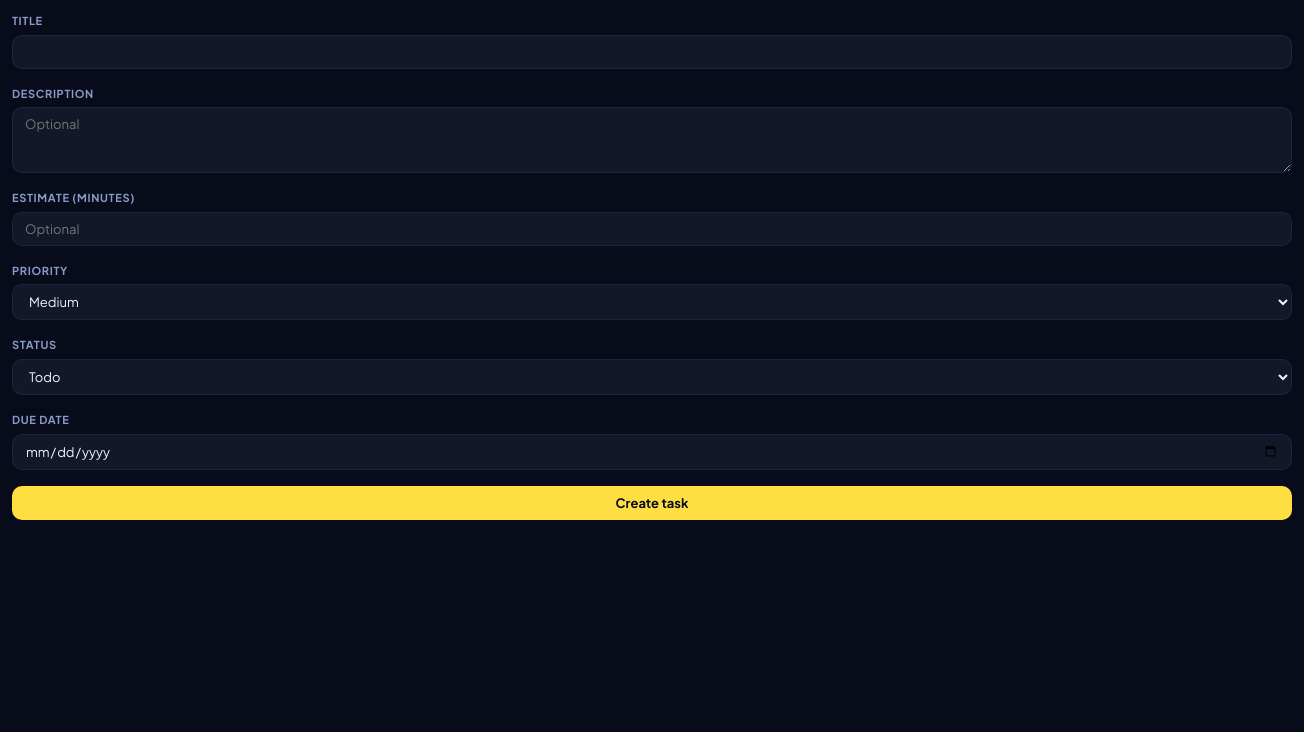
Test: TaskForm › shows validation error when estimate is negative
Type "Test" into the field labelled "Title".
click(652, 52); type("Test")  # box top-left (12, 35), bottom-right (1292, 69)
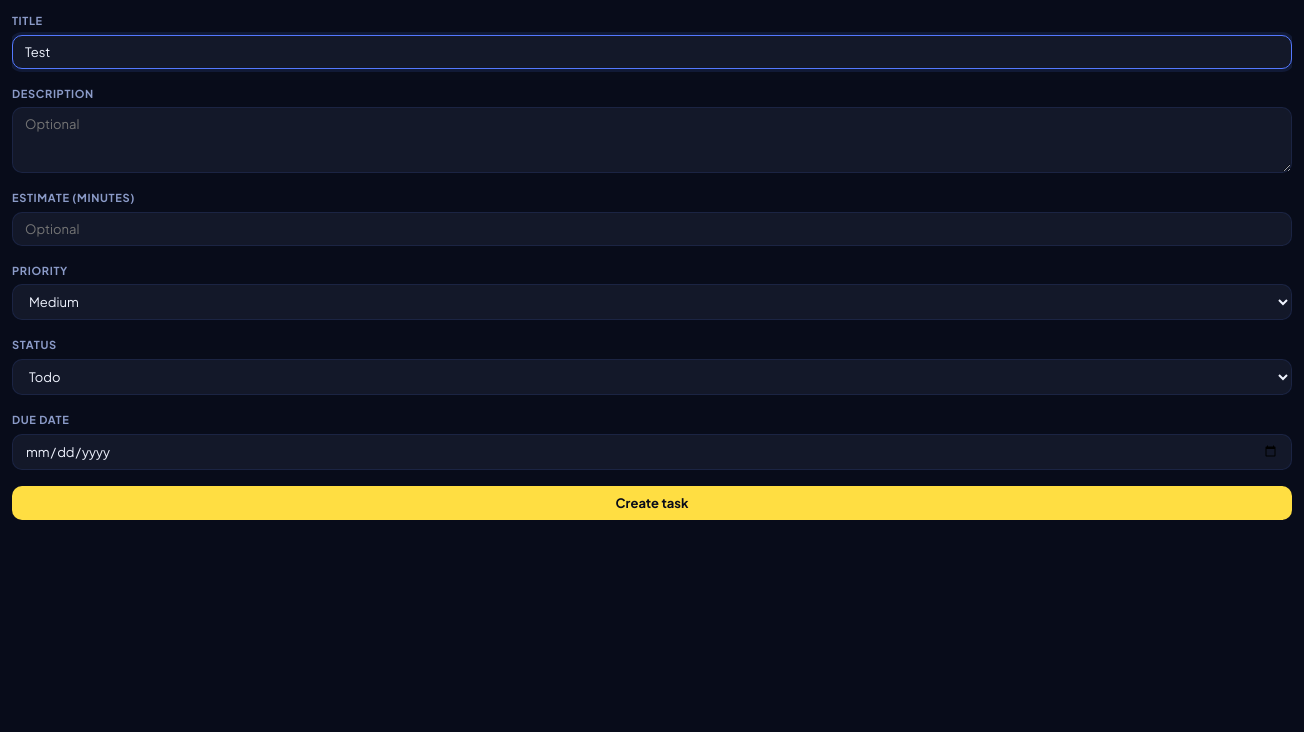
Type "-5" into the number field labelled "Estimate (minutes)".
click(652, 229); type("-5")  # box top-left (12, 212), bottom-right (1292, 246)
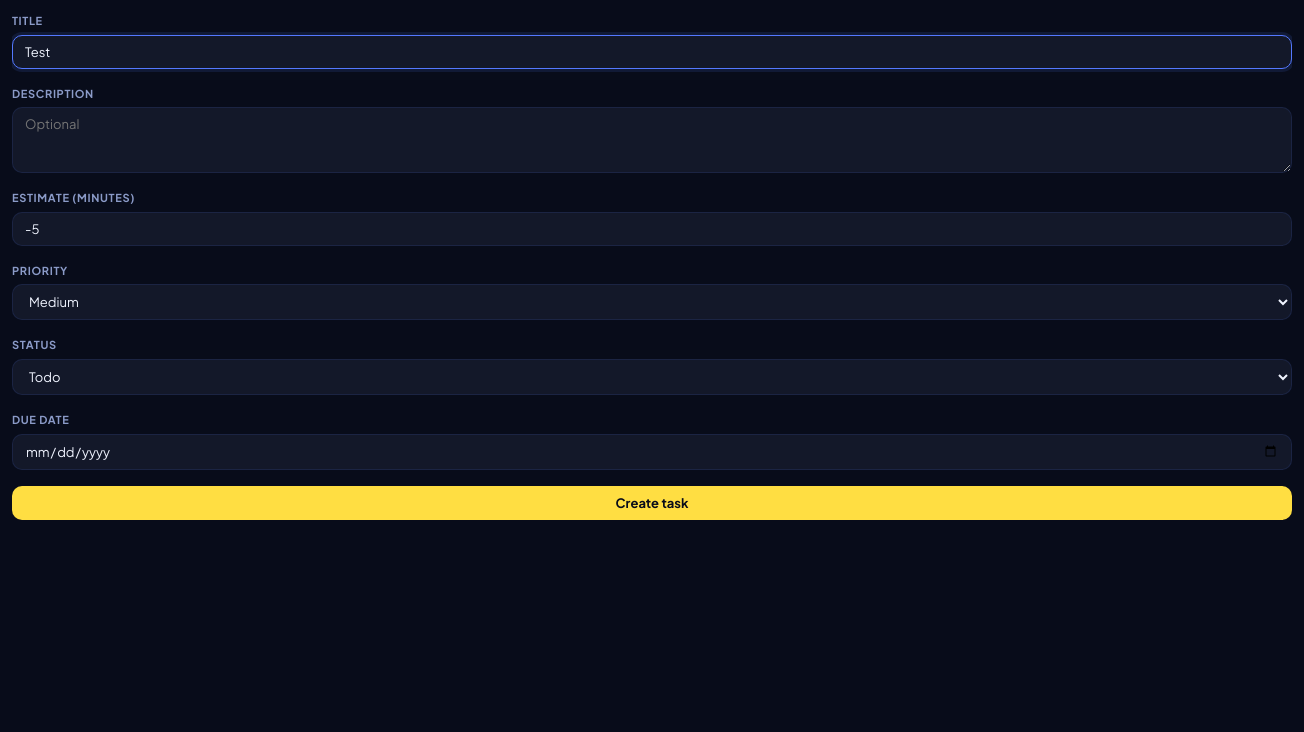
Submit the form
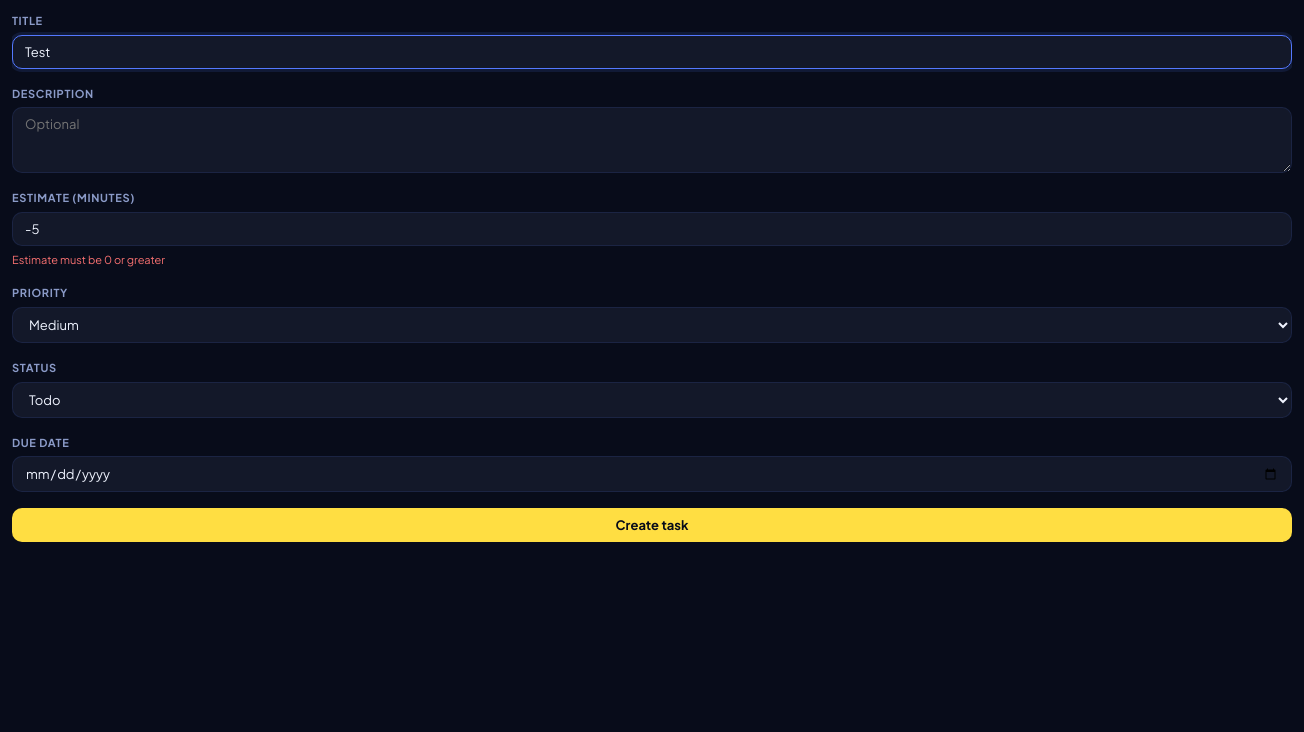
Check: the text "Estimate must be 0 or greater" is shown, box top-left (12, 253), bottom-right (165, 266)
